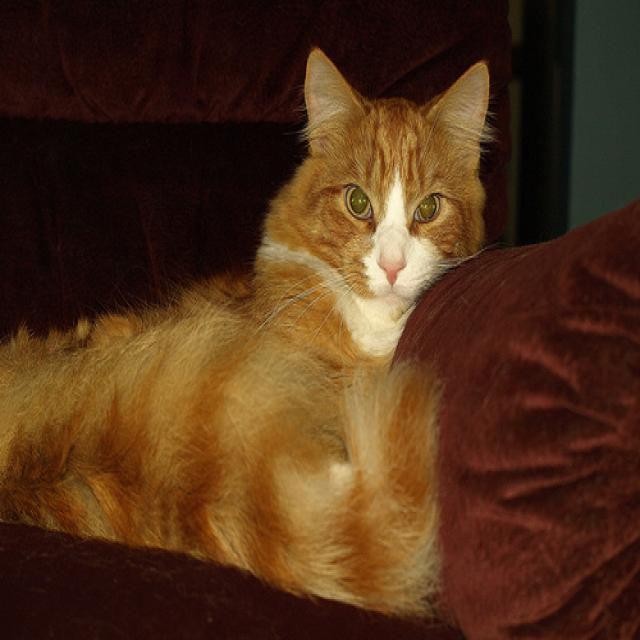Maine_Coon: (278, 44, 493, 321)
